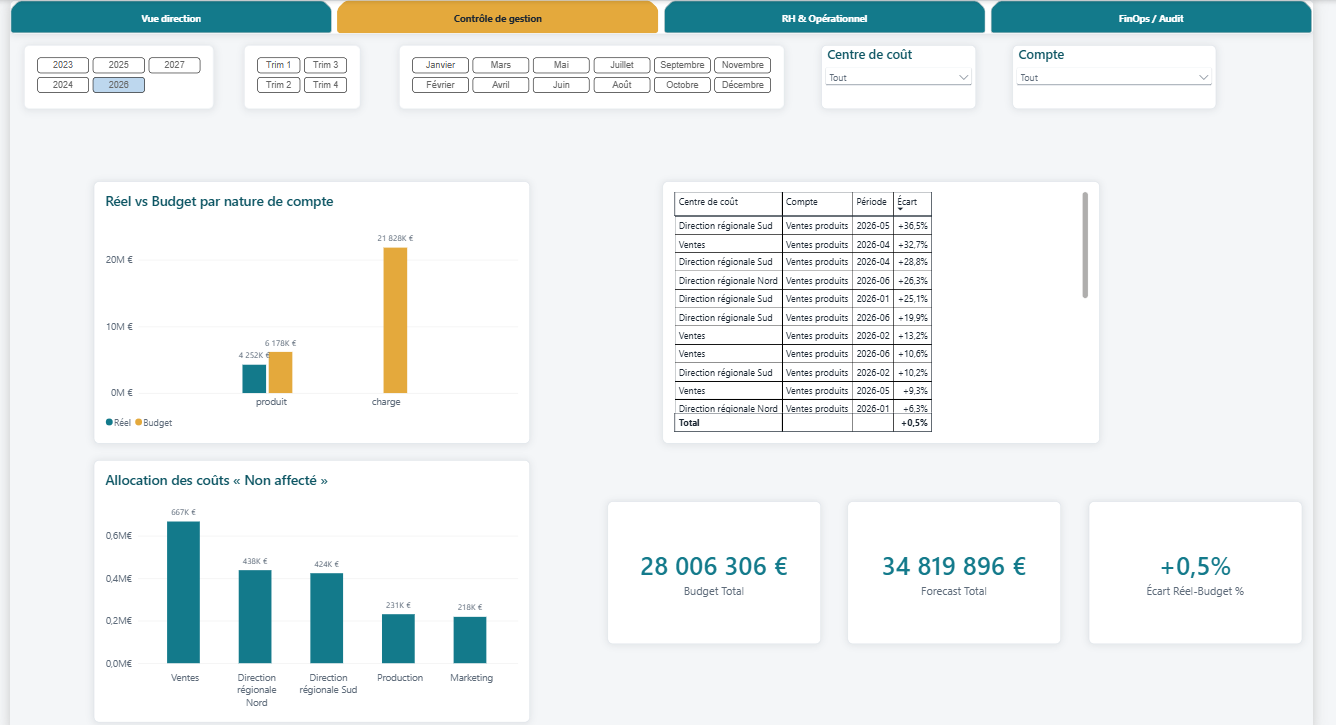

The dashboard page shown, as its layout file describes it:
{"tool":"powerbi","page":{"name":"Contrôle de gestion","canvas":[1920,1080],"ordinal":1},"visuals":[{"type":"ChicletSlicer1448559807354","fields":{"Category":["Dim Date.Calendrier.Année"]},"box":[20,66,280,94],"z":0},{"type":"pageNavigator","box":[0,0,1920,50],"z":1000},{"type":"ChicletSlicer1448559807354","fields":{"Category":["Dim Date.Calendrier.Trimestre"]},"box":[344,66,172,94],"z":2000},{"type":"ChicletSlicer1448559807354","fields":{"Category":["Dim Date.Calendrier.Mois"]},"box":[572,66,568,94],"z":3000},{"type":"clusteredColumnChart","title":"Réel vs Budget par nature de compte","fields":{"Category":["Dim Compte.nature"],"Y":["Fct Écarts Réel-Budget.Réel (comptes rapprochés)","Fct Écarts Réel-Budget.Budget (comptes rapprochés)"]},"box":[124,266,642,386],"z":9000},{"type":"tableEx","fields":{"Values":["Dim Centre de coût.libelle","Dim Compte.libelle","Dim Date.annee_mois","Fct Écarts Réel-Budget.Écart Réel-Budget %"]},"box":[960,266,644,386],"z":9001},{"type":"slicer","fields":{"Values":["Dim Centre de coût.libelle"]},"box":[1194,66,228,94],"z":9002},{"type":"slicer","fields":{"Values":["Dim Compte.libelle"]},"box":[1476,66,300,94],"z":9003},{"type":"clusteredColumnChart","title":"Allocation des coûts « Non affecté »","fields":{"Category":["Dim Centre de coût.libelle"],"Y":["Fct Allocation coûts.Montant alloué"]},"box":[124,678,642,386],"z":9004},{"type":"card","fields":{"Values":["Fct Budget.Budget Total"]},"box":[880,738,314,210],"z":9005},{"type":"card","fields":{"Values":["Fct Forecast.Forecast Total"]},"box":[1234,738,314,210],"z":9006},{"type":"card","fields":{"Values":["Fct Écarts Réel-Budget.Écart Réel-Budget %"]},"box":[1588,738,314,210],"z":9007}]}

Visuals, with their boxes on the page's 1920x1080 design canvas (x1, y1, x2, y2). These are canvas units, not pixel positions in the 1336x725 screenshot, which may show the page scaled, cropped or inside an application window:
ChicletSlicer1448559807354 - Dim Date.Calendrier.Année: <region>20, 66, 300, 160</region>
pageNavigator: <region>0, 0, 1920, 50</region>
ChicletSlicer1448559807354 - Dim Date.Calendrier.Trimestre: <region>344, 66, 516, 160</region>
ChicletSlicer1448559807354 - Dim Date.Calendrier.Mois: <region>572, 66, 1140, 160</region>
"Réel vs Budget par nature de compte" clusteredColumnChart: <region>124, 266, 766, 652</region>
tableEx - Dim Centre de coût.libelle x Dim Compte.libelle: <region>960, 266, 1604, 652</region>
slicer - Dim Centre de coût.libelle: <region>1194, 66, 1422, 160</region>
slicer - Dim Compte.libelle: <region>1476, 66, 1776, 160</region>
"Allocation des coûts « Non affecté »" clusteredColumnChart: <region>124, 678, 766, 1064</region>
card - Fct Budget.Budget Total: <region>880, 738, 1194, 948</region>
card - Fct Forecast.Forecast Total: <region>1234, 738, 1548, 948</region>
card - Fct Écarts Réel-Budget.Écart Réel-Budget %: <region>1588, 738, 1902, 948</region>
